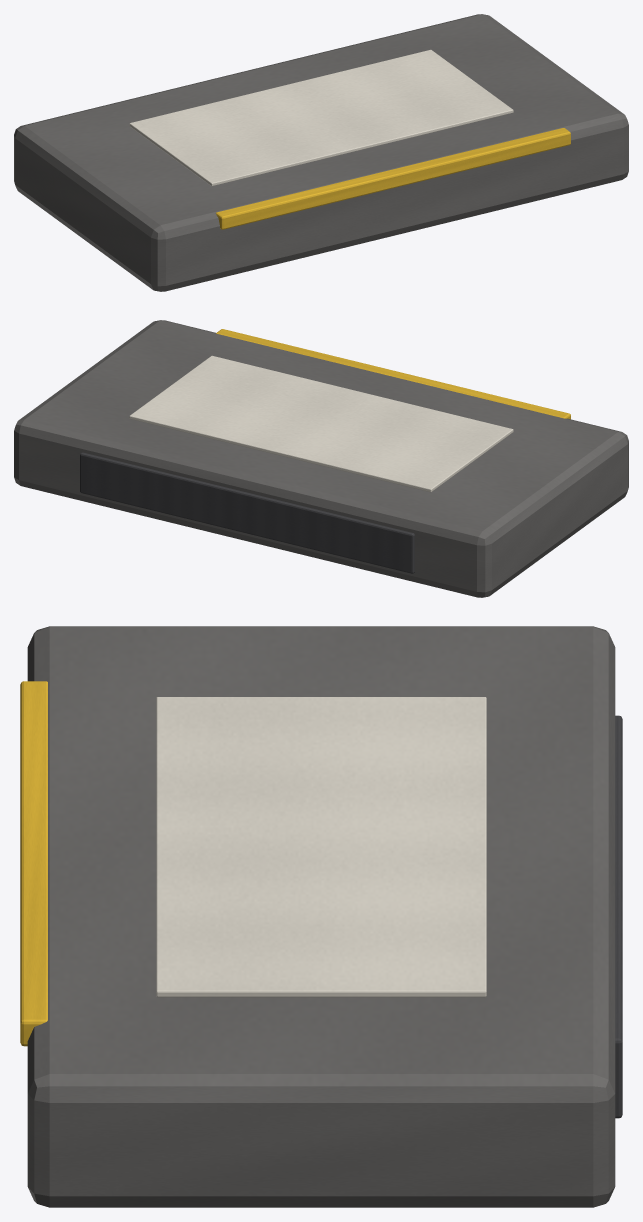
The model's file is data_cartridge_variant.glb.
The picture shows the model from 3 angles, top to bottom: view 1: azimuth 30°, elevation 25°; view 2: azimuth 150°, elevation 25°; view 3: azimuth 270°, elevation 25°; orthographic projection. The views are drawn at different scales.
Parts seen in each view (by area): view 1: body.001, label, grip; view 2: body.001, label, contact, grip; view 3: body.001, label, grip, contact.
Boxes of the visible parts, x1,y1,x2,y2 form: body.001: (14, 14, 628, 291); label: (129, 49, 513, 186); grip: (216, 128, 570, 229); body.001: (14, 320, 628, 597); label: (129, 355, 513, 492); contact: (80, 452, 414, 573); grip: (216, 329, 570, 419); body.001: (27, 626, 615, 1207); label: (156, 697, 486, 997); grip: (20, 681, 47, 1046); contact: (615, 715, 622, 1118).
Bounding box in the file's own units: 0.15 × 0.021 × 0.082.
4 materials, 4 textured.
